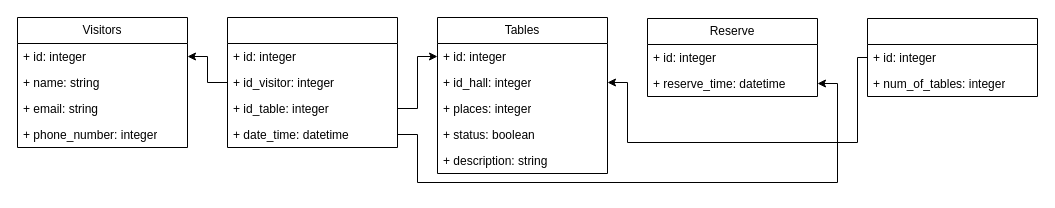
This 1055x208 diagram has some shape labels left out. The shapes that lost their labels are listed below. From the top down, each one's box as (x1, y1, x2, y2) in pixels, then its label:
(866, 18, 1038, 96): Halls
(226, 16, 398, 148): Order
